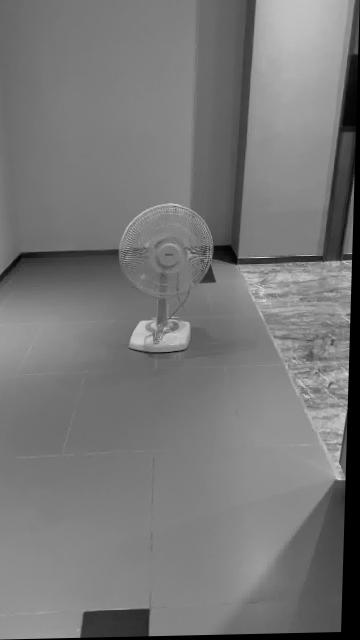Fan: (121, 204, 215, 355)
